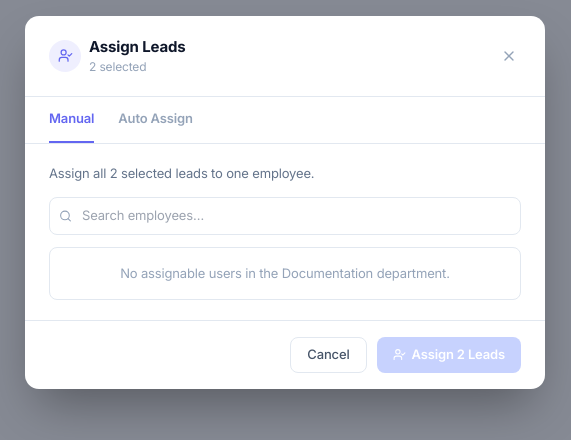
Test: LeadAssignModal - Documentation context › departmentId null disables AUTO with an inline note
The image size is (571, 440).
Click the button "Auto Assign" at (156, 120), box [118, 97, 193, 142]
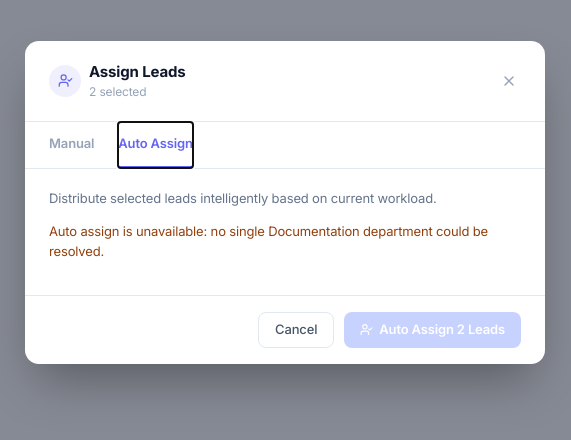
Expected: the button "Auto Assign 2 Leads" is disabled, [344, 312, 521, 348]
Expected: the text "Auto assign is unavailable" is shown, [49, 223, 488, 258]
